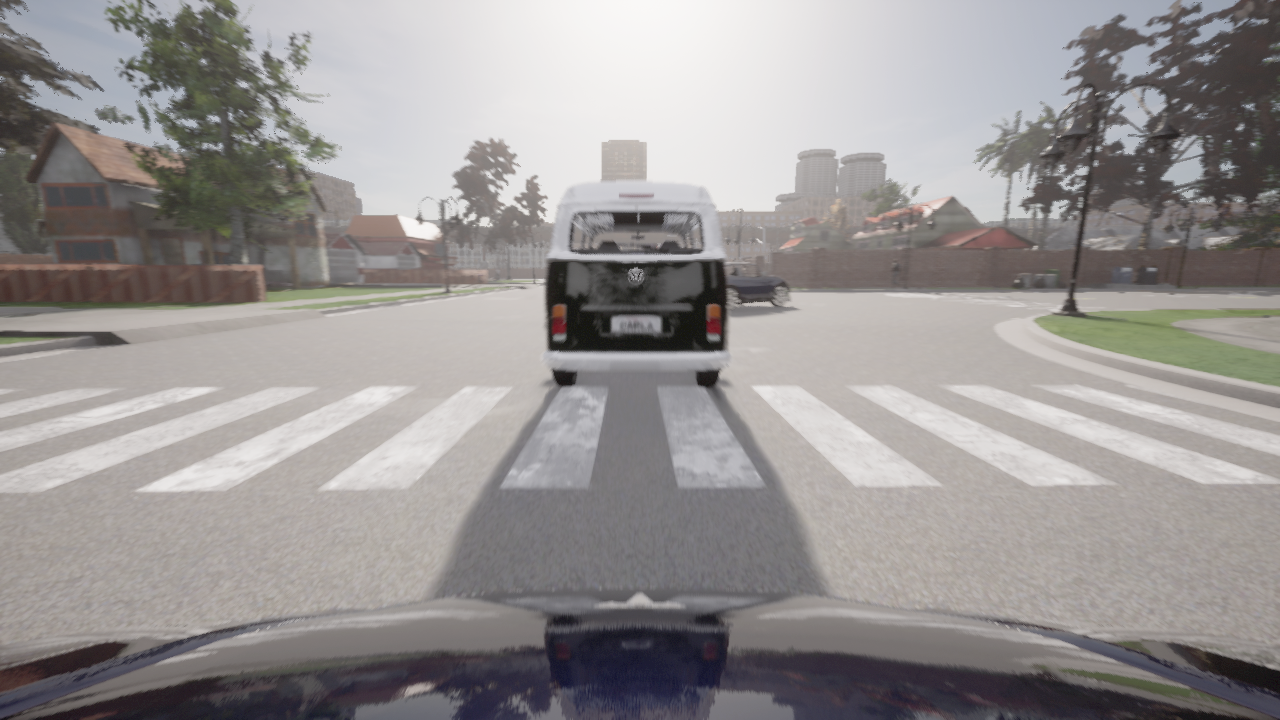cyclist: (0, 588, 1279, 719), (541, 181, 731, 388), (726, 262, 790, 310)
pedestrian: (890, 259, 901, 287), (478, 271, 482, 286)
